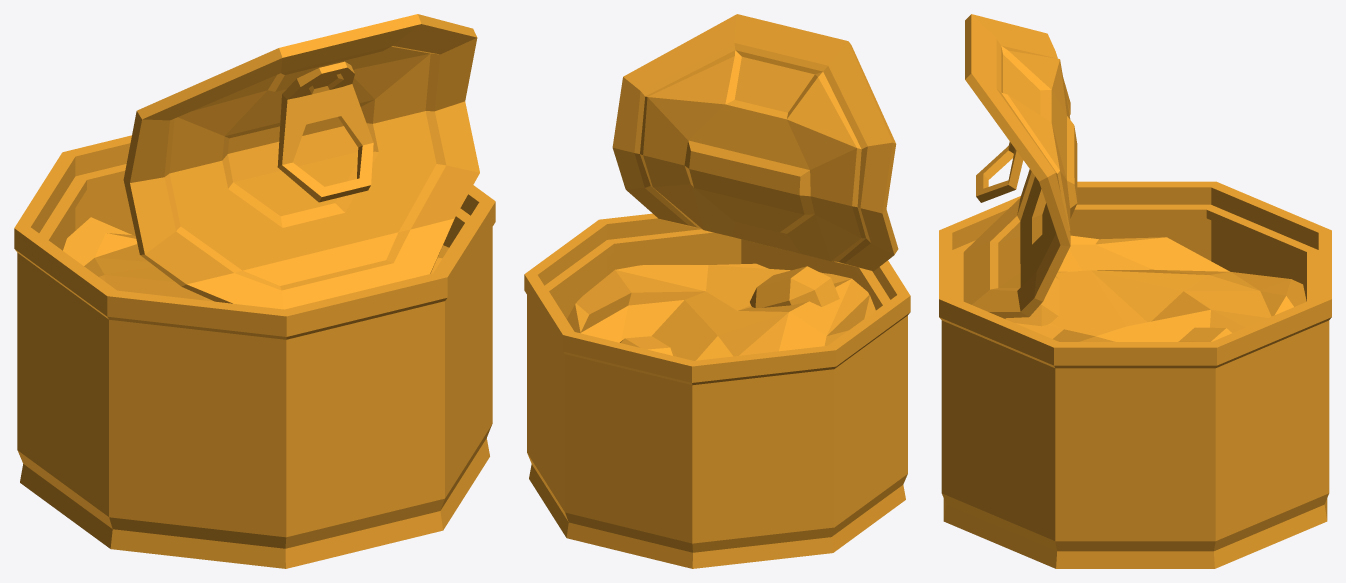
File: SM_Can_Catfood_Small_Opened.fbx
3 renders of one model, left to right at view 1: azimuth 30°, elevation 25°; view 2: azimuth 150°, elevation 25°; view 3: azimuth 270°, elevation 25°, orthographic. The views are drawn at different scales.
Parts seen in each view (by area): view 1: SM_Can_Catfood_Small_Opened; view 2: SM_Can_Catfood_Small_Opened; view 3: SM_Can_Catfood_Small_Opened.
Boxes of the visible parts, x1,y1,x2,y2 form: SM_Can_Catfood_Small_Opened: (14,14,495,568); SM_Can_Catfood_Small_Opened: (524,14,910,568); SM_Can_Catfood_Small_Opened: (939,14,1331,568).
Bounding box in the file's own units: 0.0823 × 0.1026 × 0.0823.
